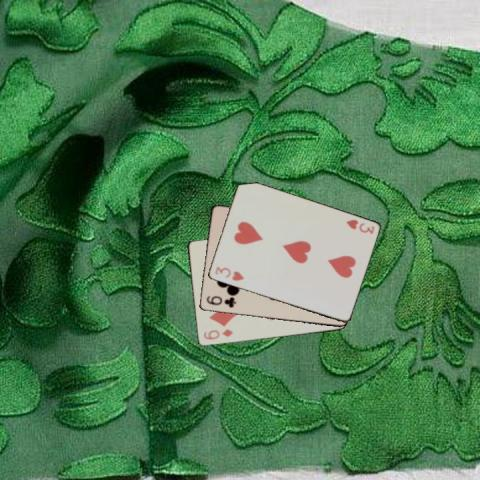3h: (212, 263, 246, 283), (343, 217, 375, 235)
6c: (203, 293, 237, 309)
6d: (201, 326, 234, 341)
